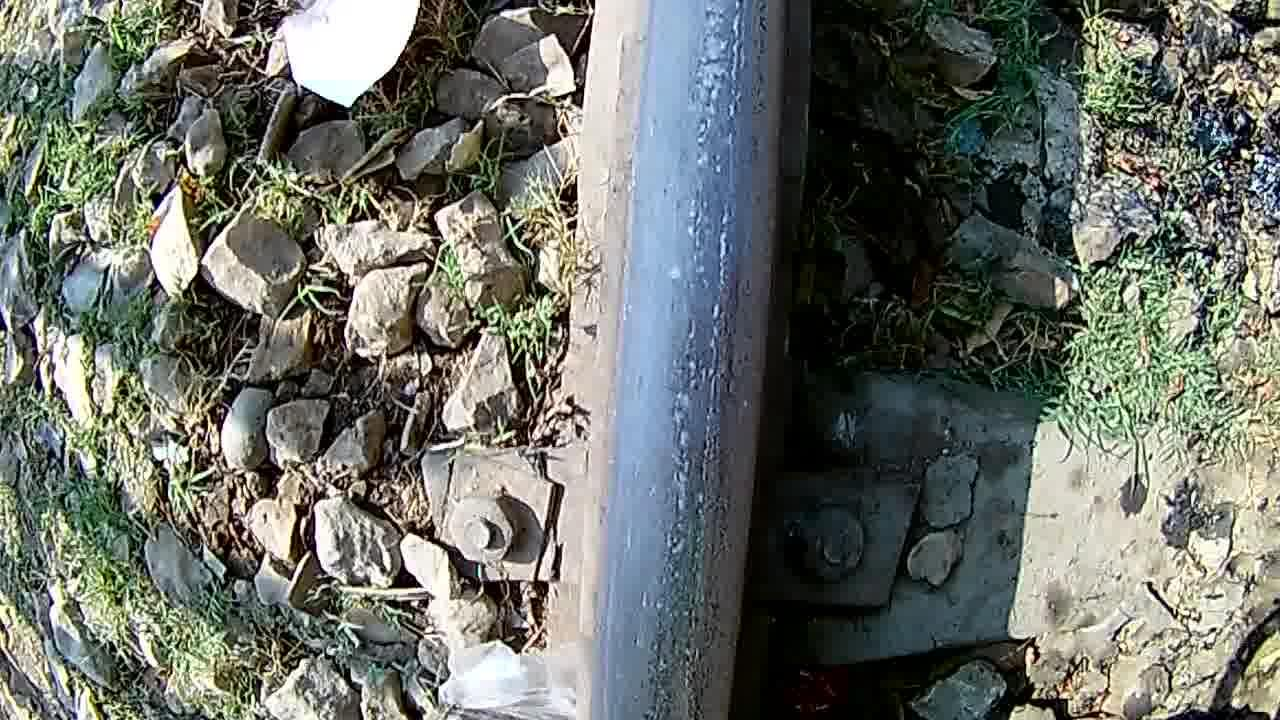clip_missing: (624, 6, 760, 718)
